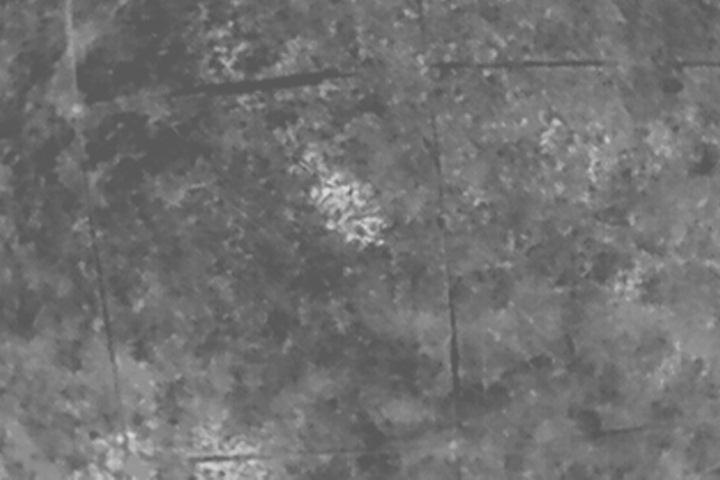landmine: (312, 170, 386, 247)
